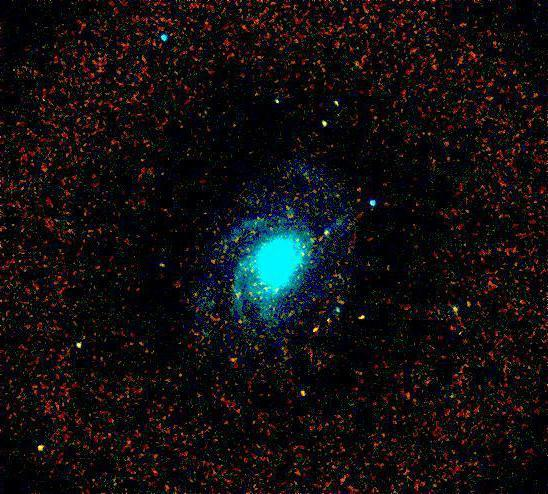star: (456, 289, 486, 319)
